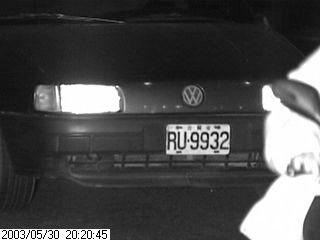plate: (164, 122, 232, 156)
